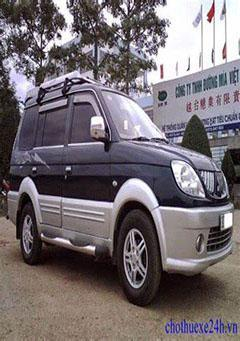car: (8, 67, 237, 319)
